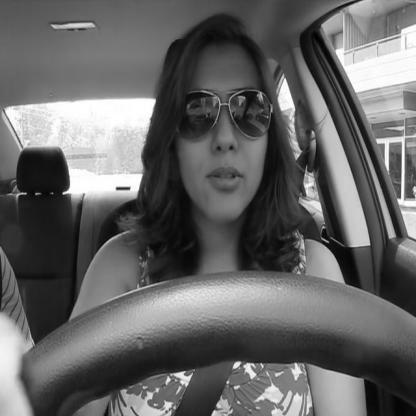seatbelt: (132, 1, 323, 416)
